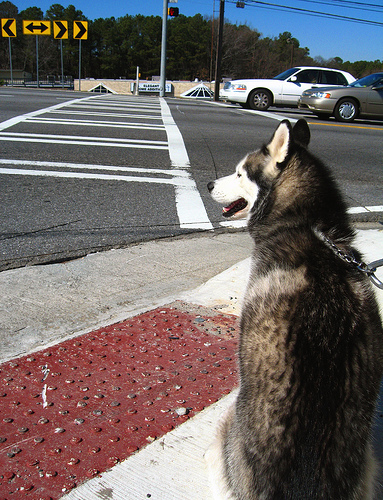dog: (209, 112, 381, 498)
